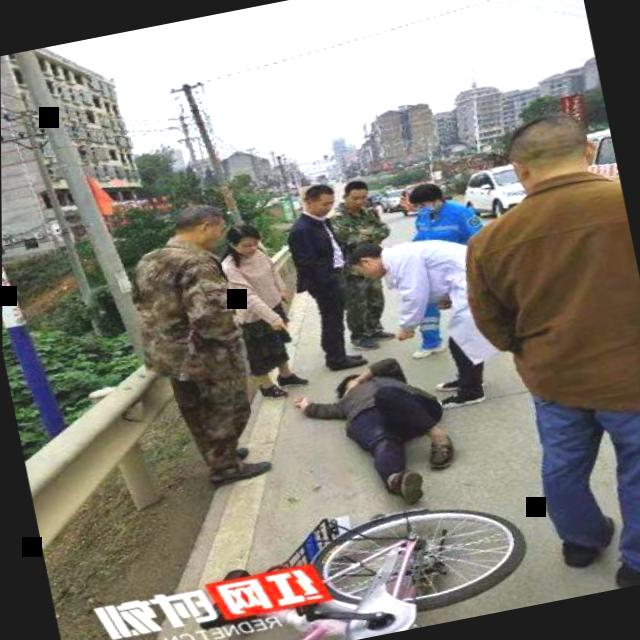Fall-Detected: (277, 330, 479, 534)
